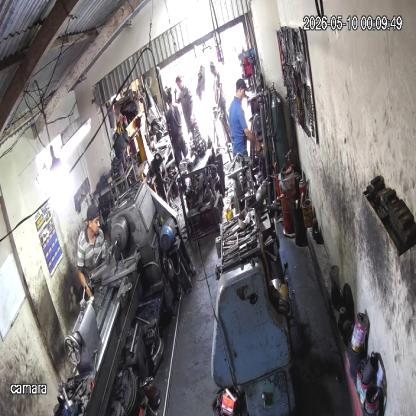sin_lentes: (91, 215, 101, 227)
